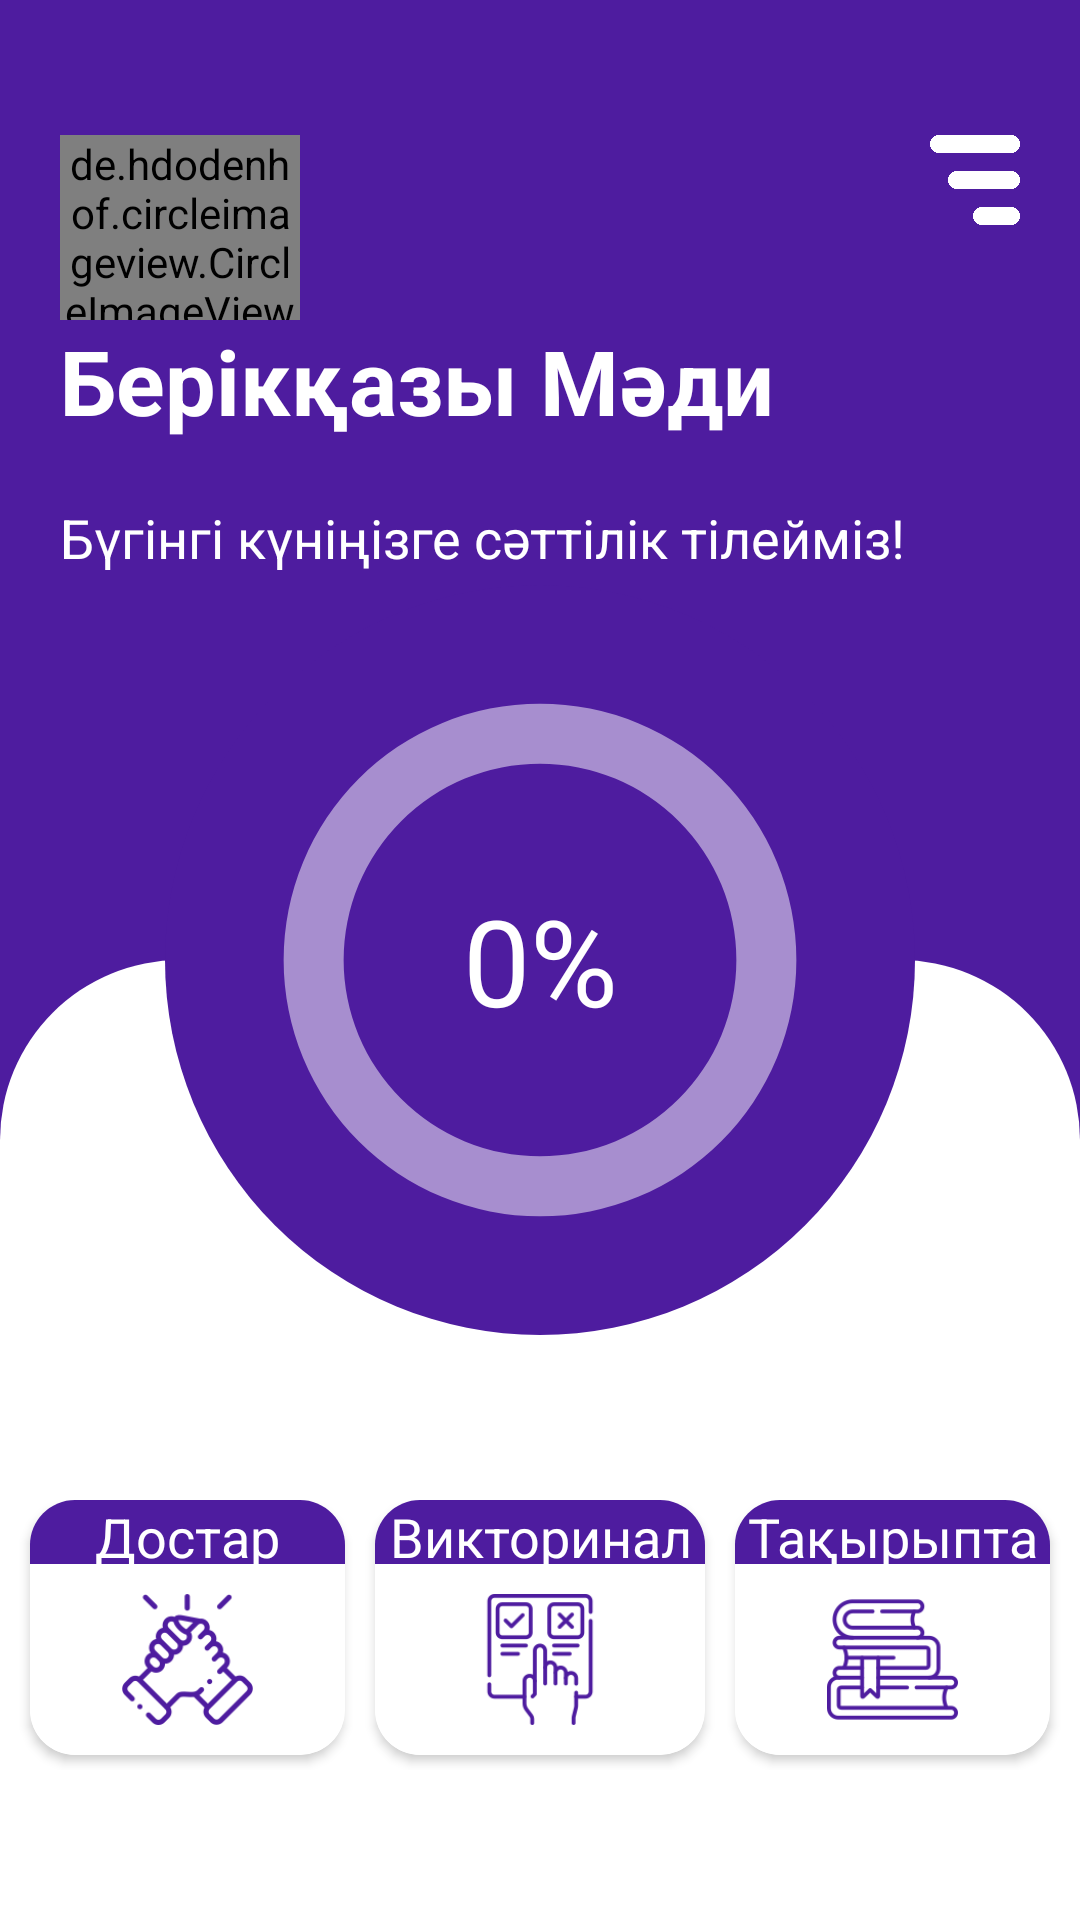

Named icons in this screenshot (1080×1920) and their centers, [x,y]:
book: [892,1659]
menu: [975,180]
